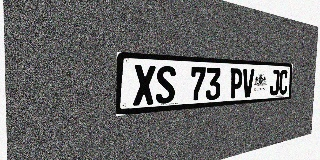3: (205, 67, 221, 100)
7: (189, 67, 206, 102)
C: (279, 70, 288, 95)
J: (269, 70, 280, 96)
P: (229, 68, 243, 99)
S: (156, 65, 176, 104)
V: (242, 69, 254, 98)
X: (133, 65, 156, 106)
